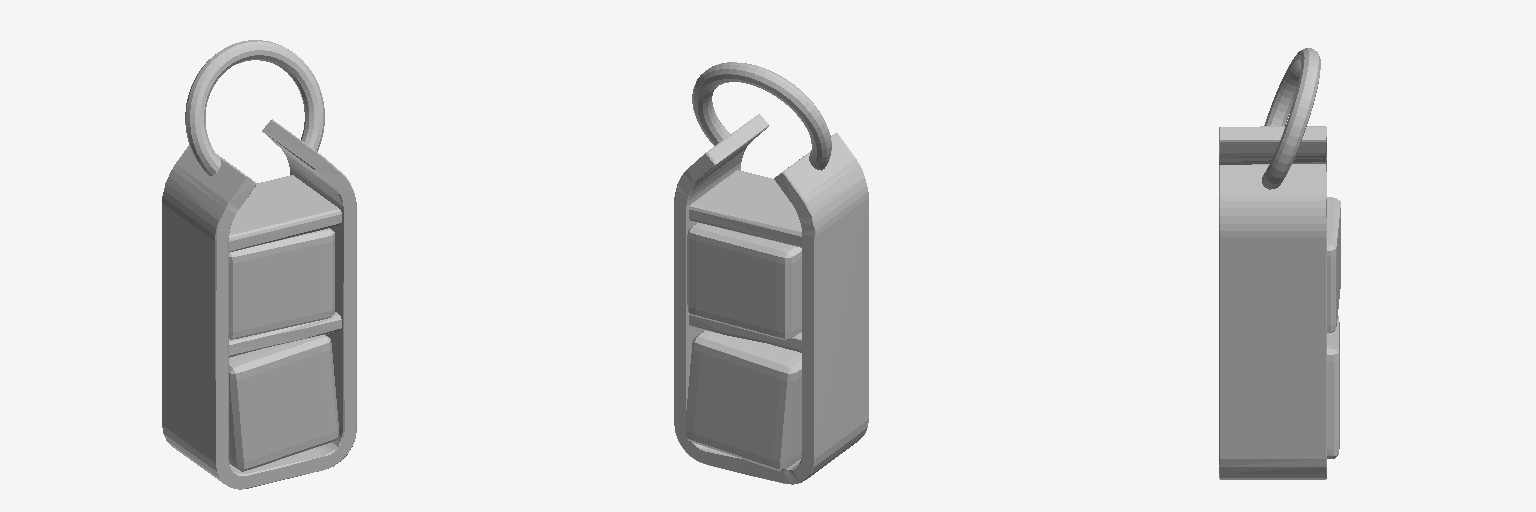
Rendered from SetA_WallOrnament_Style_01.obj.
3 renders of one model, left to right at view 1: azimuth 30°, elevation 25°; view 2: azimuth 150°, elevation 25°; view 3: azimuth 270°, elevation 25°, orthographic.
Visible parts, largest first — view 1: SetA_WallOrnament_Style_01; view 2: SetA_WallOrnament_Style_01; view 3: SetA_WallOrnament_Style_01.
Part boxes in pixels (bbox=[...]): SetA_WallOrnament_Style_01: bbox=[162, 40, 356, 489]; SetA_WallOrnament_Style_01: bbox=[674, 62, 868, 484]; SetA_WallOrnament_Style_01: bbox=[1219, 48, 1340, 479].
Size of the model in its own units: 0.1187 by 0.3216 by 0.0886.